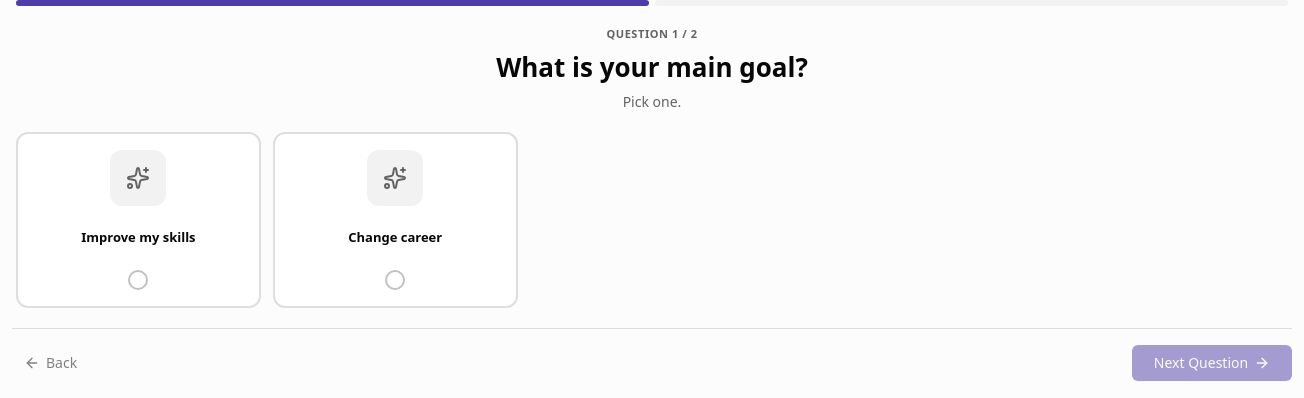
Test: the next button gates on the question's own rules › is disabled until something is chosen
Check: the button "Next Question" is disabled, box [1132,345,1292,381]
Click the radio button labelled "Improve my skills" at (138, 220), box [16,132,261,308]
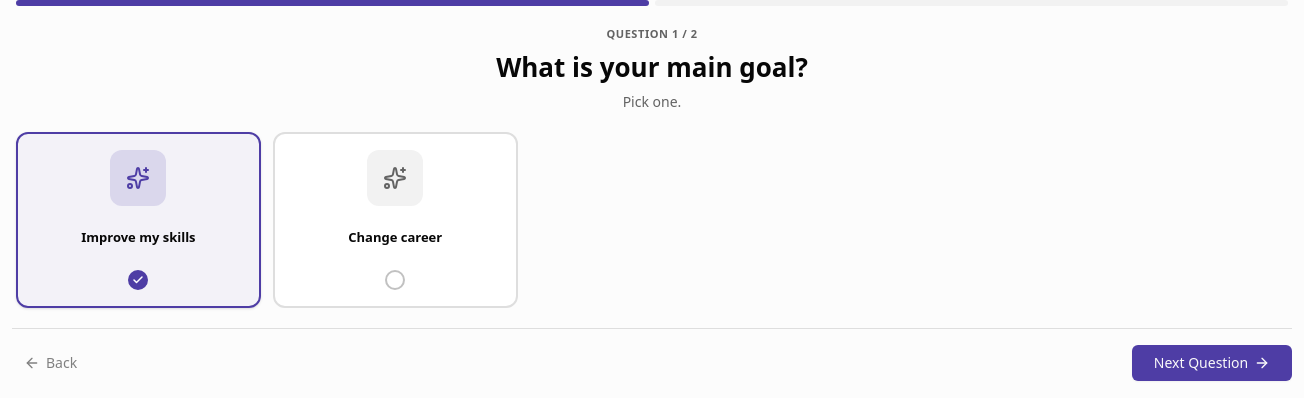
Check: the button "Next Question" is enabled, box [1132,345,1292,381]
